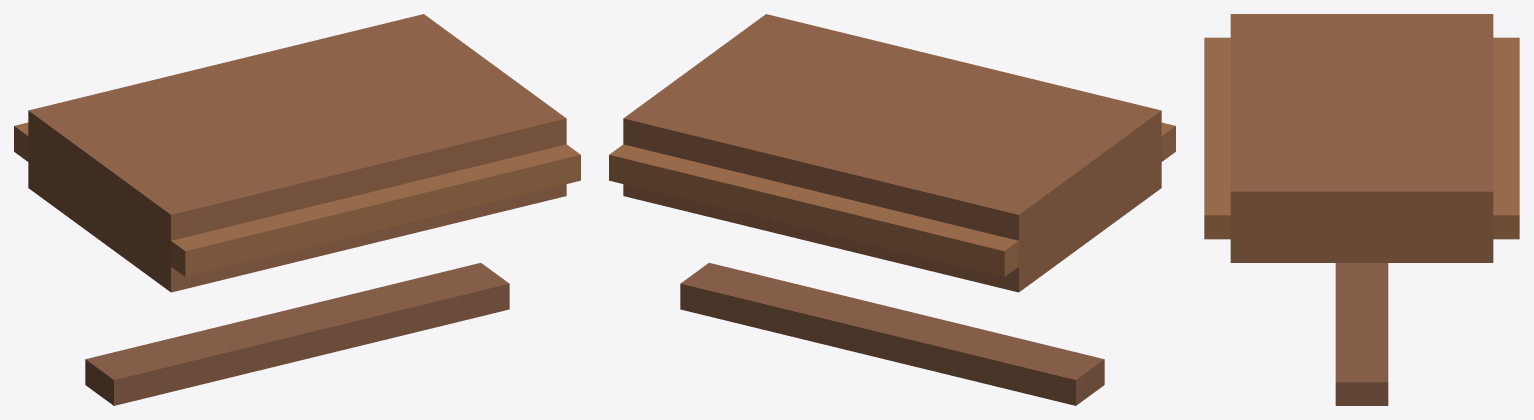
Rendered from Interior_Furniture_Table_Piece_Long_Type03_02.obj.
3 views of the same model, side by side, from view 1: azimuth 30°, elevation 25°; view 2: azimuth 150°, elevation 25°; view 3: azimuth 270°, elevation 25° (orthographic). The views are drawn at different scales.
Size of the model in its own units: 1.6 by 0.9 by 1.2.
1 material, 1 textured.
